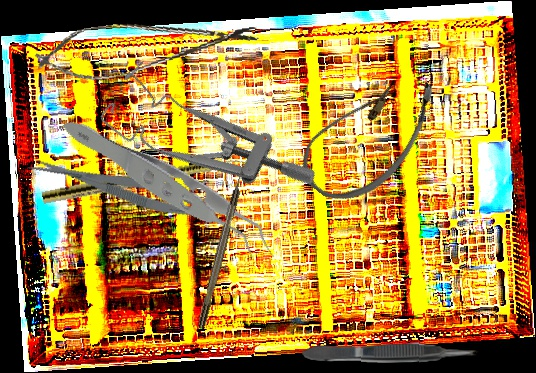Cannula: (288, 47, 451, 222)
Handpiece: (41, 151, 250, 207)
Hook Surgical: (195, 159, 250, 330)
Micro Scissor: (31, 4, 262, 89), (26, 145, 219, 227)
Speculum: (92, 41, 321, 247)
Tissue Forceps: (60, 65, 279, 320), (301, 340, 479, 366)
